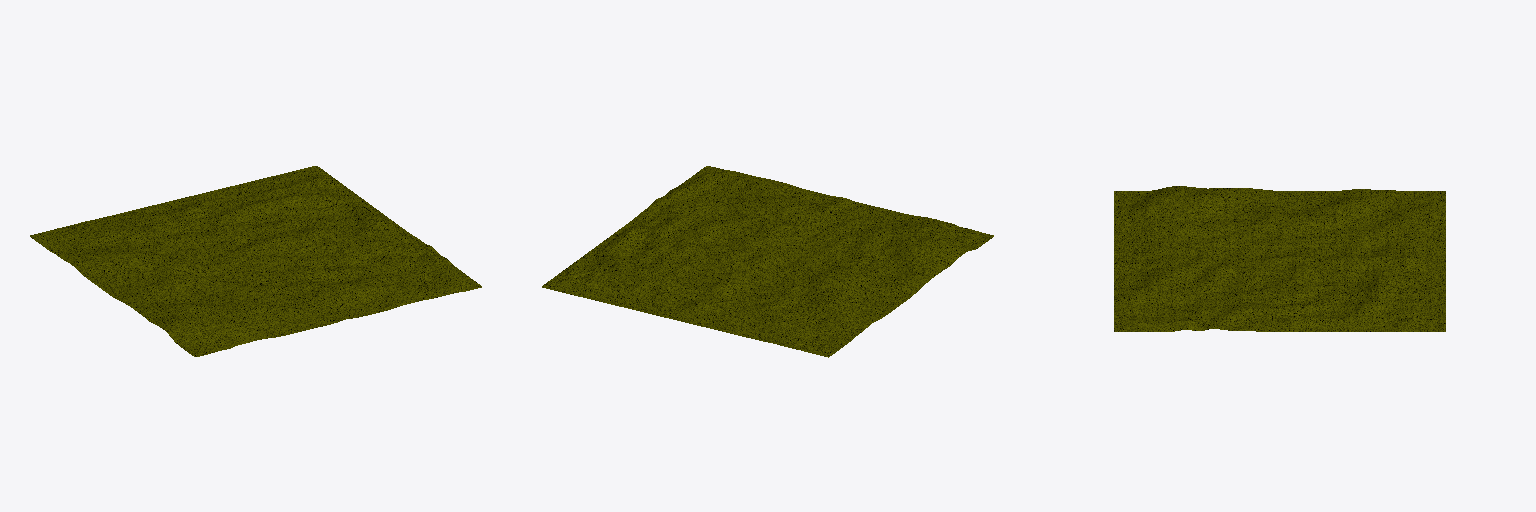
3 views of the same model, side by side, from view 1: azimuth 30°, elevation 25°; view 2: azimuth 150°, elevation 25°; view 3: azimuth 270°, elevation 25° (orthographic).
Parts seen in each view (by area): view 1: Grid_Grid.002; view 2: Grid_Grid.002; view 3: Grid_Grid.002.
Boxes of the visible parts, box(x1,y1,x2,y2) form: Grid_Grid.002: box(30, 166, 481, 356); Grid_Grid.002: box(542, 166, 993, 357); Grid_Grid.002: box(1114, 186, 1445, 331).
Size of the model in its own units: 150 by 5.46 by 150.
Materials: 1 (1 with a texture image).